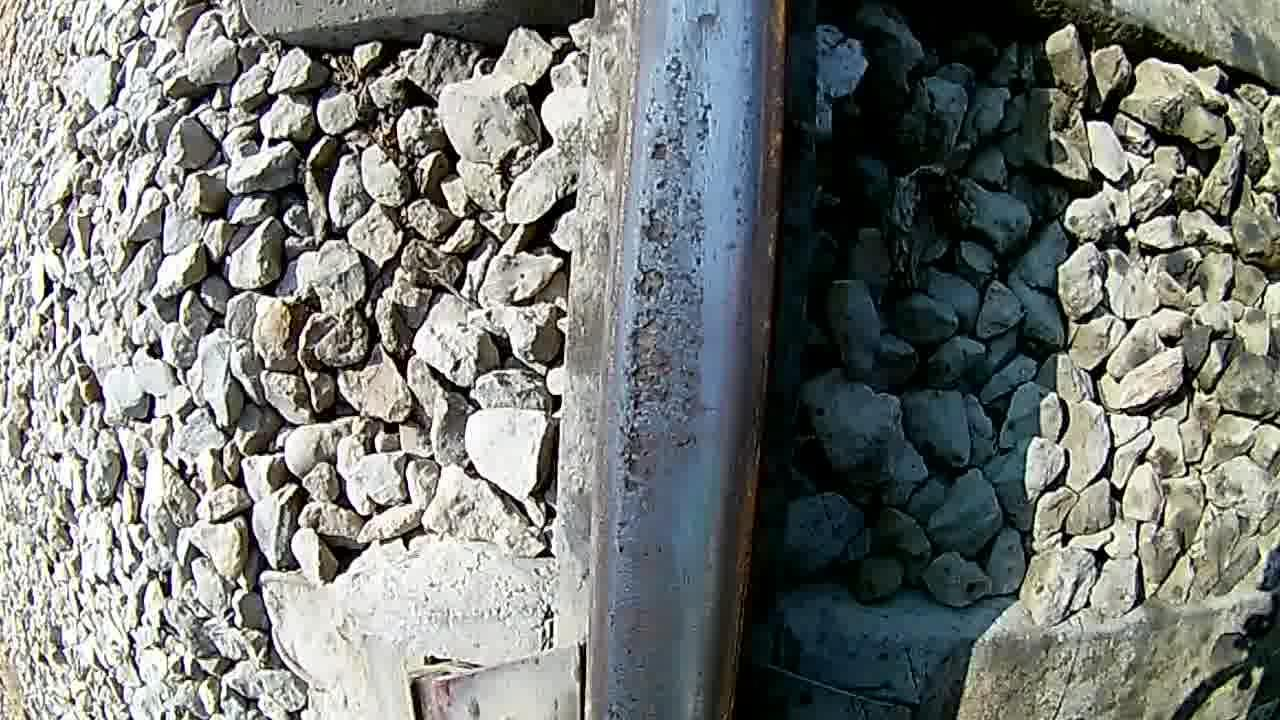crack: (582, 0, 782, 720)
